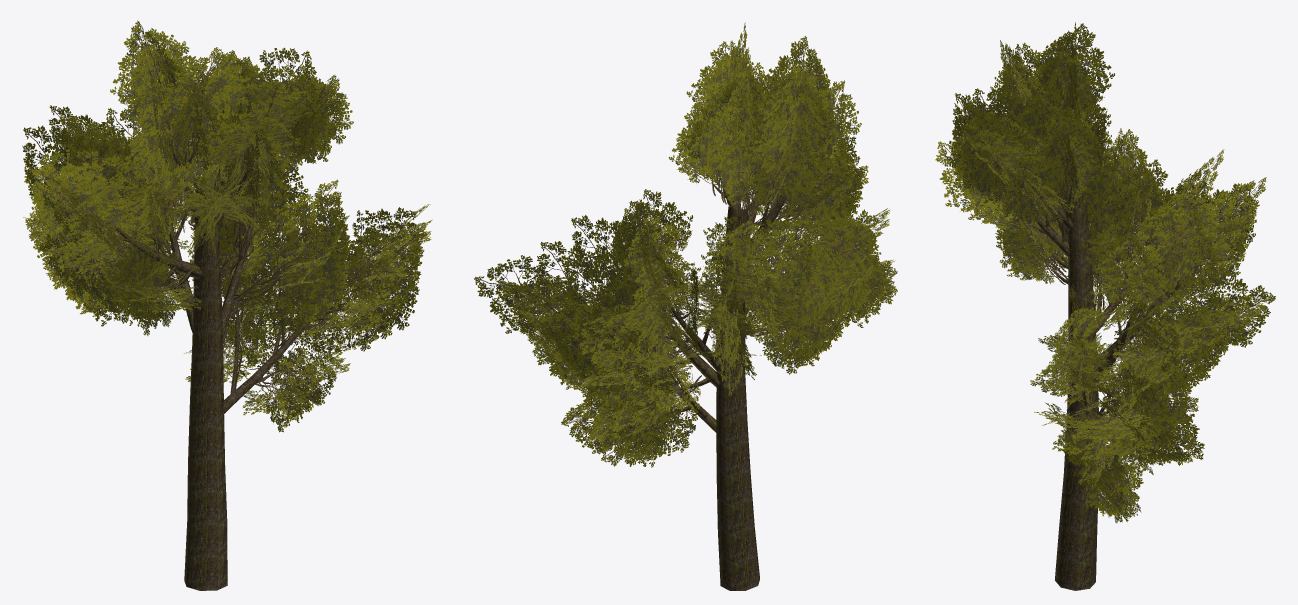
File: pine10_lod0.glb
3 renders of one model, left to right at view 1: azimuth 30°, elevation 25°; view 2: azimuth 150°, elevation 25°; view 3: azimuth 270°, elevation 25°, orthographic. The views are drawn at different scales.
Visible parts, largest first — view 1: pine10_lod0; view 2: pine10_lod0; view 3: pine10_lod0.
Part boxes in pixels (box(x1,y1,x2,y2)): pine10_lod0: box(22, 20, 432, 590); pine10_lod0: box(474, 22, 897, 590); pine10_lod0: box(935, 22, 1275, 590).
Bounding box in the file's own units: 36.31 × 46.25 × 27.43.
2 materials, 2 textured.
